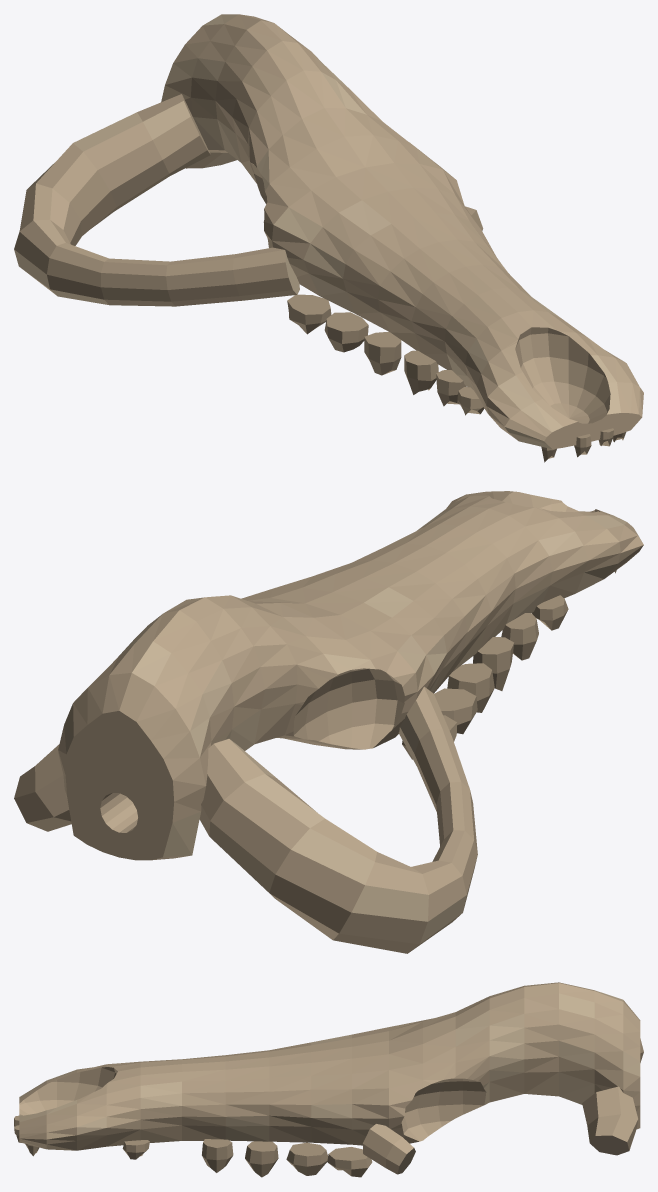
File: andrewsarchus.glb
3 views of the same model, one above another, from view 1: azimuth 30°, elevation 25°; view 2: azimuth 150°, elevation 25°; view 3: azimuth 270°, elevation 25° (orthographic). The views are drawn at different scales.
Visible parts, largest first — view 1: Cranium_preserved_long_waisted_rostrum, Continuous_preserved_zygomatic_arch, Preserved_worn_upper_crown_1_4, Preserved_worn_upper_crown_1_3, Preserved_worn_upper_crown_1_5, Preserved_worn_upper_crown_1_2, Preserved_worn_upper_crown_1_1; view 2: Cranium_preserved_long_waisted_rostrum, Continuous_preserved_zygomatic_arch, Missing_arch_posterior_break, Preserved_worn_upper_crown_1_3, Preserved_worn_upper_crown_1_2, Preserved_worn_upper_crown_1_4, Preserved_worn_upper_crown_1_1, Preserved_worn_upper_crown_1_0; view 3: Cranium_preserved_long_waisted_rostrum, Missing_arch_posterior_break, Missing_arch_anterior_break, Preserved_worn_upper_crown_-1_4, Preserved_worn_upper_crown_-1_5, Preserved_worn_upper_crown_-1_3, Preserved_worn_upper_crown_-1_2, Preserved_worn_upper_crown_-1_0.
Boxes of the visible parts, x1,y1,x2,y2 form: Cranium_preserved_long_waisted_rostrum: (161,14,643,449); Continuous_preserved_zygomatic_arch: (14,94,299,306); Preserved_worn_upper_crown_1_4: (324,312,368,352); Preserved_worn_upper_crown_1_3: (364,331,401,375); Preserved_worn_upper_crown_1_5: (287,294,331,334); Preserved_worn_upper_crown_1_2: (404,350,438,394); Preserved_worn_upper_crown_1_1: (436,370,466,406); Cranium_preserved_long_waisted_rostrum: (58,491,643,860); Continuous_preserved_zygomatic_arch: (199,686,477,953); Missing_arch_posterior_break: (14,744,71,831); Preserved_worn_upper_crown_1_3: (447,663,494,712); Preserved_worn_upper_crown_1_2: (473,637,514,690); Preserved_worn_upper_crown_1_4: (434,688,477,734); Preserved_worn_upper_crown_1_1: (501,613,538,660); Preserved_worn_upper_crown_1_0: (532,595,568,630); Cranium_preserved_long_waisted_rostrum: (19,982,640,1150); Missing_arch_posterior_break: (582,1086,638,1155); Missing_arch_anterior_break: (362,1124,415,1174); Preserved_worn_upper_crown_-1_4: (286,1142,327,1175); Preserved_worn_upper_crown_-1_5: (327,1147,372,1177); Preserved_worn_upper_crown_-1_3: (245,1141,278,1177); Preserved_worn_upper_crown_-1_2: (202,1139,233,1172); Preserved_worn_upper_crown_-1_0: (122,1140,149,1159).
Size of the model in its own units: 0.4431 by 0.2671 by 0.8522.
